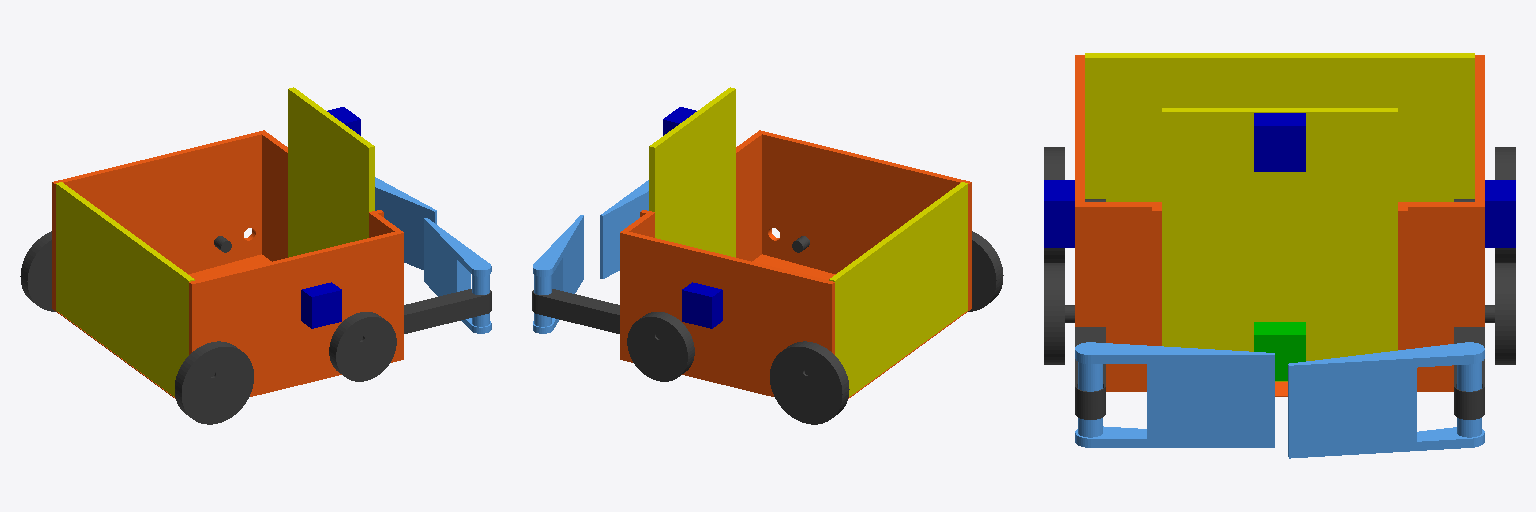
robot.urdf — bot1:
<?xml version="1.0" encoding="utf-8"?>

<robot
  name="bot1">

  <material name="black">
    <color rgba="0.0 0.0 0.0 1.0"/>
  </material>

  <material name="blue">
    <color rgba="0.0 0.0 0.8 1.0"/>
  </material>

  <material name="green">
    <color rgba="0.0 0.8 0.0 1.0"/>
  </material>

  <material name="grey">
    <color rgba="0.3 0.3 0.3 1.0"/>
  </material>

  <material name="orange">
    <color rgba="1 0.4 0.1 1"/>
  </material>

  <material name="red">
    <color rgba="0.8 0.0 0.0 1.0"/>
  </material>

  <material name="white">
    <color rgba="1.0 1.0 1.0 1.0"/>
  </material>

  <material name="yellow">
    <color rgba="0.9 0.9 0 1.0"/>
  </material>

  <material name="cyan">
    <color rgba="0.4 0.7 1 1.0"/>
  </material>

  <link
    name="base_link">
    <inertial>
      <origin
        xyz="0.045732 0.09332 1.1107E-16"
        rpy="0 0 0" />
      <mass
        value="2.0304" />
      <inertia
        ixx="0.072006"
        ixy="-0.00042676"
        ixz="-3.7413E-17"
        iyy="0.092836"
        iyz="-5.2298E-18"
        izz="0.036075" />
    </inertial>
    <visual>
      <origin
        xyz="0 0 0"
        rpy="0 0 0" />
      <geometry>
        <mesh
          filename="package://bot1/meshes/base_link.STL" />
      </geometry>
      <material
        name="orange">
      </material>
    </visual>
    <collision>
      <origin
        xyz="0 0 0"
        rpy="0 0 0" />
      <geometry>
        <mesh
          filename="package://bot1/meshes/base_link.STL" />
      </geometry>
    </collision>
  </link>
  <link
    name="B">
    <inertial>
      <origin
        xyz="0.005 0.1 2.2811E-17"
        rpy="0 0 0" />
      <mass
        value="0.76" />
      <inertia
        ixx="0.011679"
        ixy="1.0729E-20"
        ixz="1.7754E-20"
        iyy="0.0091517"
        iyz="1.7658E-19"
        izz="0.0025397" />
    </inertial>
    <visual>
      <origin
        xyz="0.175 0 0"
        rpy="0 0 0" />
      <geometry>
        <mesh
          filename="package://bot1/meshes/B.STL" />
      </geometry>
      <material
        name="yellow">
      </material>
    </visual>
    <collision>
      <origin
        xyz="0.175 0 0"
        rpy="0 0 0" />
      <geometry>
        <mesh
          filename="package://bot1/meshes/B.STL" />
      </geometry>
    </collision>
  </link>
  <joint
    name="BJ"
    type="prismatic">
    <origin
      xyz="-0.175 0 0.001"
      rpy="1.5708 0 0" />
    <parent
      link="base_link" />
    <child
      link="B" />
    <axis
      xyz="0 -1 0" />
    <limit
      lower="-0.15"
      upper="0"
      effort="10"
      velocity="0.1" />
    <!--safety_controller
      k_velocity="0" /-->
  </joint>
  <link
    name="FRW">
    <inertial>
      <origin
        xyz="-2.7756E-17 -3.7636E-05 -0.048156"
        rpy="0 0 0" />
      <mass
        value="0.16694" />
      <inertia
        ixx="0.00011342"
        ixy="0"
        ixz="2.647E-21"
        iyy="0.00011354"
        iyz="-6.1853E-08"
        izz="0.00019663" />
    </inertial>
    <visual>
      <origin
        xyz="0 0 0"
        rpy="0 0 0" />
      <geometry>
        <mesh
          filename="package://bot1/meshes/FRW.STL" />
      </geometry>
      <material
        name="grey">
      </material>
    </visual>
    <collision>
      <origin
        xyz="0 0 0"
        rpy="0 0 0" />
      <geometry>
        <mesh
          filename="package://bot1/meshes/FRW.STL" />
      </geometry>
    </collision>
  </link>
  <joint
    name="FRWJ"
    type="continuous">
    <origin
      xyz="0.095 -0.17 0.047"
      rpy="1.5707963267949 0.39309481042652 -3.14159265358979" />
    <parent
      link="base_link" />
    <child
      link="FRW" />
    <axis
      xyz="0 0 1" />
    <!--safety_controller
      k_velocity="0" /-->
  </joint>
  <link
    name="RRW">
    <inertial>
      <origin
        xyz="0 -3.7636E-05 -0.048156"
        rpy="0 0 0" />
      <mass
        value="0.16694" />
      <inertia
        ixx="0.00011342"
        ixy="1.0164E-20"
        ixz="2.6933E-21"
        iyy="0.00011354"
        iyz="-6.1853E-08"
        izz="0.00019663" />
    </inertial>
    <visual>
      <origin
        xyz="0 0 0"
        rpy="0 0 0" />
      <geometry>
        <mesh
          filename="package://bot1/meshes/RRW.STL" />
      </geometry>
      <material
        name="grey">
      </material>
    </visual>
    <collision>
      <origin
        xyz="0 0 0"
        rpy="0 0 0" />
      <geometry>
        <mesh
          filename="package://bot1/meshes/RRW.STL" />
      </geometry>
    </collision>
  </link>
  <joint
    name="RRWJ"
    type="continuous">
    <origin
      xyz="-0.065 -0.17 0.047"
      rpy="1.5707963267949 0.393094810426521 -3.14159265358979" />
    <parent
      link="base_link" />
    <child
      link="RRW" />
    <axis
      xyz="0 0 1" />
    <!--safety_controller
      k_velocity="0" /-->
  </joint>
  <link
    name="FLW">
    <inertial>
      <origin
        xyz="1.3878E-17 -3.7636E-05 -0.048156"
        rpy="0 0 0" />
      <mass
        value="0.16694" />
      <inertia
        ixx="0.00011342"
        ixy="-3.1238E-22"
        ixz="-9.8323E-22"
        iyy="0.00011354"
        iyz="-6.1853E-08"
        izz="0.00019663" />
    </inertial>
    <visual>
      <origin
        xyz="0 0 0"
        rpy="0 0 0" />
      <geometry>
        <mesh
          filename="package://bot1/meshes/FLW.STL" />
      </geometry>
      <material
        name="grey">
      </material>
    </visual>
    <collision>
      <origin
        xyz="0 0 0"
        rpy="0 0 0" />
      <geometry>
        <mesh
          filename="package://bot1/meshes/FLW.STL" />
      </geometry>
    </collision>
  </link>
  <joint
    name="FLWJ"
    type="continuous">
    <origin
      xyz="0.095 0.17 0.047"
      rpy="1.5707963267949 0 0" />
    <parent
      link="base_link" />
    <child
      link="FLW" />
    <axis
      xyz="0 0 -1" />
    <!--safety_controller
      k_velocity="0" /-->
  </joint>
  <link
    name="RLW">
    <inertial>
      <origin
        xyz="0 -3.7636E-05 -0.048156"
        rpy="0 0 0" />
      <mass
        value="0.16694" />
      <inertia
        ixx="0.00011342"
        ixy="-2.065E-22"
        ixz="-9.8323E-22"
        iyy="0.00011354"
        iyz="-6.1853E-08"
        izz="0.00019663" />
    </inertial>
    <visual>
      <origin
        xyz="0 0 0"
        rpy="0 0 0" />
      <geometry>
        <mesh
          filename="package://bot1/meshes/RLW.STL" />
      </geometry>
      <material
        name="grey">
      </material>
    </visual>
    <collision>
      <origin
        xyz="0 0 0"
        rpy="0 0 0" />
      <geometry>
        <mesh
          filename="package://bot1/meshes/RLW.STL" />
      </geometry>
    </collision>
  </link>
  <joint
    name="RLWJ"
    type="continuous">
    <origin
      xyz="-0.065 0.17 0.047"
      rpy="1.5707963267949 0 0" />
    <parent
      link="base_link" />
    <child
      link="RLW" />
    <axis
      xyz="0 0 -1" />
    <!--safety_controller
      k_velocity="0" /-->
  </joint>
  <link
    name="RC">
    <inertial>
      <origin
        xyz="0.015 0 0"
        rpy="0 0 0" />
      <mass
        value="0.075" />
      <inertia
        ixx="3.125E-05"
        ixy="-1.6263E-22"
        ixz="4.2352E-22"
        iyy="2.125E-05"
        iyz="-1.0334E-21"
        izz="2.125E-05" />
    </inertial>
    <visual>
      <origin
        xyz="0 0 0"
        rpy="0 0 0" />
      <geometry>
        <mesh
          filename="package://bot1/meshes/RC.STL" />
      </geometry>
      <material
        name="blue">
      </material>
    </visual>
    <collision>
      <origin
        xyz="0 0 0"
        rpy="0 0 0" />
      <geometry>
        <mesh
          filename="package://bot1/meshes/RC.STL" />
      </geometry>
    </collision>
  </link>
  <joint
    name="RCJ"
    type="fixed">
    <origin
      xyz="0.03 -0.23 0.125"
      rpy="1.5707963267949 0 1.5707963267949" />
    <parent
      link="base_link" />
    <child
      link="RC" />
    <axis
      xyz="0 0 0" />
    <safety_controller
      k_velocity="0" />
  </joint>
  <link
    name="LC">
    <inertial>
      <origin
        xyz="0.015 0 0"
        rpy="0 0 0" />
      <mass
        value="0.075" />
      <inertia
        ixx="3.125E-05"
        ixy="1.6263E-22"
        ixz="-4.2352E-22"
        iyy="2.125E-05"
        iyz="-1.0334E-21"
        izz="2.125E-05" />
    </inertial>
    <visual>
      <origin
        xyz="0 0 0"
        rpy="0 0 0" />
      <geometry>
        <mesh
          filename="package://bot1/meshes/LC.STL" />
      </geometry>
      <material
        name="blue">
      </material>
    </visual>
    <collision>
      <origin
        xyz="0 0 0"
        rpy="0 0 0" />
      <geometry>
        <mesh
          filename="package://bot1/meshes/LC.STL" />
      </geometry>
    </collision>
  </link>
  <joint
    name="LCJ"
    type="fixed">
    <origin
      xyz="0.03 0.23 0.125"
      rpy="-1.5707963267949 0 -1.5707963267949" />
    <parent
      link="base_link" />
    <child
      link="LC" />
    <axis
      xyz="0 0 0" />
    <safety_controller
      k_velocity="0" />
  </joint>
  <link
    name="RA">
    <inertial>
      <origin
        xyz="0.064226 0 0"
        rpy="0 0 0" />
      <mass
        value="0.11493" />
      <inertia
        ixx="1.7546E-05"
        ixy="1.3293E-21"
        ixz="-5.3917E-21"
        iyy="0.0001712"
        iyz="-2.9655E-21"
        izz="0.00017089" />
    </inertial>
    <visual>
      <origin
        xyz="0 0 0"
        rpy="0 0 0" />
      <geometry>
        <mesh
          filename="package://bot1/meshes/RA.STL" />
      </geometry>
      <material
        name="grey">
      </material>
    </visual>
    <collision>
      <origin
        xyz="0 0 0"
        rpy="0 0 0" />
      <geometry>
        <mesh
          filename="package://bot1/meshes/RA.STL" />
      </geometry>
    </collision>
  </link>
  <joint
    name="RAJ"
    type="fixed">
    <origin
      xyz="0.175 -0.185 0.055"
      rpy="1.5707963267949 0 0" />
    <parent
      link="base_link" />
    <child
      link="RA" />
    <axis
      xyz="0 0 0" />
    <safety_controller
      k_velocity="0" />
  </joint>
  <link
    name="RF">
    <inertial>
      <origin
        xyz="0.075327 1.3878E-17 0.0052437"
        rpy="0 0 0" />
      <mass
        value="0.24614" />
      <inertia
        ixx="0.00024699"
        ixy="1.1698E-20"
        ixz="-4.7172E-05"
        iyy="0.00069522"
        iyz="3.0415E-20"
        izz="0.00092098" />
    </inertial>
    <visual>
      <origin
        xyz="-0.31 -0.05 -0.185"
        rpy="0 0 0" />
      <geometry>
        <mesh
          filename="package://bot1/meshes/RF.STL" />
      </geometry>
      <material
        name="cyan">
      </material>
    </visual>
    <collision>
      <origin
        xyz="-0.31 -0.05 -0.185"
        rpy="0 0 0" />
      <geometry>
        <mesh
          filename="package://bot1/meshes/RF.STL" />
      </geometry>
    </collision>
  </link>
  <joint
    name="RFJ"
    type="revolute">
    <origin
      xyz="0.135 0 0"
      rpy="0 0.7854 0" />
    <parent
      link="RA" />
    <child
      link="RF" />
    <axis
      xyz="0 1 0" />
    <limit
      lower="-1.5"
      upper="0.2"
      effort="100"
      velocity="0.125" />
    <!--safety_controller
      k_velocity="0" /-->
  </joint>
  <link
    name="LA">
    <inertial>
      <origin
        xyz="0.064226 0 0"
        rpy="0 0 0" />
      <mass
        value="0.11493" />
      <inertia
        ixx="1.7546E-05"
        ixy="5.6286E-21"
        ixz="2.0529E-21"
        iyy="0.0001712"
        iyz="-2.9655E-21"
        izz="0.00017089" />
    </inertial>
    <visual>
      <origin
        xyz="-0.175 -0.055 0.185"
        rpy="0 0 0" />
      <geometry>
        <mesh
          filename="package://bot1/meshes/LA.STL" />
      </geometry>
      <material
        name="grey">
      </material>
    </visual>
    <collision>
      <origin
        xyz="-0.175 -0.055 0.185"
        rpy="0 0 0" />
      <geometry>
        <mesh
          filename="package://bot1/meshes/LA.STL" />
      </geometry>
    </collision>
  </link>
  <joint
    name="LAJ"
    type="fixed">
    <origin
      xyz="0.175 0.185 0.055"
      rpy="1.5708 0 0" />
    <parent
      link="base_link" />
    <child
      link="LA" />
    <axis
      xyz="0 0 0" />
    <safety_controller
      k_velocity="0" />
  </joint>
  <link
    name="LF">
    <inertial>
      <origin
        xyz="0.075327 6.9389E-18 0.0052437"
        rpy="0 0 0" />
      <mass
        value="0.24614" />
      <inertia
        ixx="0.00024699"
        ixy="2.2224E-20"
        ixz="-4.7172E-05"
        iyy="0.00069522"
        iyz="-1.3368E-20"
        izz="0.00092098" />
    </inertial>
    <visual>
      <origin
        xyz="-0.31 -0.05 0.185"
        rpy="0 0 0" />
      <geometry>
        <mesh
          filename="package://bot1/meshes/LF.STL" />
      </geometry>
      <material
        name="cyan">
      </material>
    </visual>
    <collision>
      <origin
        xyz="-0.31 -0.05 0.185"
        rpy="0 0 0" />
      <geometry>
        <mesh
          filename="package://bot1/meshes/LF.STL" />
      </geometry>
    </collision>
  </link>
  <joint
    name="LFJ"
    type="revolute">
    <origin
      xyz="0.135 0 0"
      rpy="0 -0.64739 0" />
    <parent
      link="LA" />
    <child
      link="LF" />
    <axis
      xyz="0 1 0" />
    <limit
      lower="-0.34"
      upper="1.36"
      effort="100"
      velocity="0.125" />
    <!--safety_controller
      k_velocity="0" /-->
  </joint>
  <link
    name="F">
    <inertial>
      <origin
        xyz="0 0 0"
        rpy="0 0 0" />
      <mass
        value="0" />
      <inertia
        ixx="0"
        ixy="0"
        ixz="0"
        iyy="0"
        iyz="0"
        izz="0" />
    </inertial>
    <visual>
      <origin
        xyz="-0.165 0 0"
        rpy="0 0 0" />
      <geometry>
        <mesh
          filename="package://bot1/meshes/F.STL" />
      </geometry>
      <material
        name="yellow">
      </material>
    </visual>
    <collision>
      <origin
        xyz="0 0 0"
        rpy="0 0 0" />
      <geometry>
        <mesh
          filename="package://bot1/meshes/F.STL" />
      </geometry>
    </collision>
  </link>
  <joint
    name="FJ"
    type="prismatic">
    <origin
      xyz="0.165 0 0.001"
      rpy="1.5708 0 0" />
    <parent
      link="base_link" />
    <child
      link="F" />
    <axis
      xyz="0 -1 0" />
    <limit
      lower="-0.18"
      upper="0"
      effort="10"
      velocity="0.1" />
    <!--safety_controller
      k_velocity="0" /-->
  </joint>
  <link
    name="FC">
    <inertial>
      <origin
        xyz="0.015 0 1.3105E-16"
        rpy="0 0 0" />
      <mass
        value="0.075" />
      <inertia
        ixx="3.125E-05"
        ixy="5.4323E-22"
        ixz="-2.4651E-36"
        iyy="2.125E-05"
        iyz="-1.8149E-21"
        izz="2.125E-05" />
    </inertial>
    <visual>
      <origin
        xyz="0 0 0"
        rpy="0 0 0" />
      <geometry>
        <mesh
          filename="package://bot1/meshes/FC.STL" />
      </geometry>
      <material
        name="blue">
      </material>
    </visual>
    <collision>
      <origin
        xyz="0 0 0"
        rpy="0 0 0" />
      <geometry>
        <mesh
          filename="package://bot1/meshes/FC.STL" />
      </geometry>
    </collision>
  </link>
  <joint
    name="FCJ"
    type="fixed">
    <origin
      xyz="0.01 0.275 0"
      rpy="0 0 0" />
    <parent
      link="F" />
    <child
      link="FC" />
    <axis
      xyz="0 0 0" />
    <!--safety_controller
      k_velocity="0" /-->
  </joint>
  <link
    name="L">
    <inertial>
      <origin
        xyz="0.025 1.3878E-17 1.1371E-16"
        rpy="0 0 0" />
      <mass
        value="0.075" />
      <inertia
        ixx="3.125E-05"
        ixy="2.5429E-36"
        ixz="-5.8031E-37"
        iyy="2.125E-05"
        iyz="-2.9499E-21"
        izz="2.125E-05" />
    </inertial>
    <visual>
      <origin
        xyz="0 0 0"
        rpy="0 0 0" />
      <geometry>
        <mesh
          filename="package://bot1/meshes/L.STL" />
      </geometry>
      <material
        name="green">
      </material>
    </visual>
    <collision>
      <origin
        xyz="0 0 0"
        rpy="0 0 0" />
      <geometry>
        <mesh
          filename="package://bot1/meshes/L.STL" />
      </geometry>
    </collision>
  </link>
  <joint
    name="LJ"
    type="fixed">
    <origin
      xyz="0 0.05 0"
      rpy="0 0 0" />
    <parent
      link="F" />
    <child
      link="L" />
    <axis
      xyz="0 0 0" />
    <!--safety_controller
      k_velocity="0" /-->
  </joint>
  
  <!--LiDAR-->
  <link name="hokuyo_link">
    <collision>
      <origin xyz="0 0 0" rpy="0 0 0"/>
      <geometry>
    <box size="0.1 0.1 0.1"/>
      </geometry>
    </collision>

    <visual>
      <origin xyz="0 0 0" rpy="0 0 0"/>
      <geometry>
        <mesh filename="package://bot1/meshes/hokuyo.dae"/>
      </geometry>
    </visual>

    <inertial>
      <mass value="1e-5" />
      <origin xyz="0 0 0" rpy="0 0 0"/>
      <inertia ixx="1e-6" ixy="0" ixz="0" iyy="1e-6" iyz="0" izz="1e-6" />
    </inertial>
  </link>

  <joint name="hokuyo_joint" type="fixed">
    <origin
      xyz="0.04 0.05 0"
      rpy="-1.57 0 0" />
    <parent
      link="F" />
	<child link="hokuyo_link"/>
    <axis
      xyz="0 1 0" />
    <!-- <safety_controller
      k_velocity="0" /> -->
  </joint>

   <gazebo reference="hokuyo_link">
    <sensor type="ray" name="head_hokuyo_sensor">
      <pose>0 0 0 0 0 0</pose>
      <visualize>true</visualize>
      <update_rate>40</update_rate>
      <ray>
        <scan>
          <horizontal>
            <samples>21</samples>
            <resolution>1</resolution>
            <min_angle>-0.000001</min_angle>
            <max_angle>0.000001</max_angle>
          </horizontal>
        </scan>
        <range>
          <min>0.20</min>
          <max>3.0</max>
          <resolution>0.01</resolution>
        </range>
        <noise>
          <type>gaussian</type>
          <!-- Noise parameters based on published spec for Hokuyo laser
               achieving "+-30mm" accuracy at range < 10m.  A mean of 0.0m and
               stddev of 0.01m will put 99.7% of samples within 0.03m of the true
               reading. -->
          <mean>0.0</mean>
          <stddev>0.01</stddev>
        </noise>
      </ray>
      <plugin name="gazebo_ros_head_hokuyo_controller" filename="libgazebo_ros_laser.so">
        <topicName>/umic_bot/laser/scan</topicName>
        <frameName>hokuyo_link</frameName>
      </plugin>
    </sensor>
  </gazebo>


  <!--Physical parameters-->
    <gazebo reference="FLW">
      <mu1 value="200.0"/>
      <mu2 value="100.0"/>
      <kp value="10000000.0" />
      <kd value="1.0" />
    </gazebo>  

    <gazebo reference="FLW">
      <mu1 value="200.0"/>
      <mu2 value="100.0"/>
      <kp value="10000000.0" />
      <kd value="1.0" />
    </gazebo>  

    <gazebo reference="FLW">
      <mu1 value="200.0"/>
      <mu2 value="100.0"/>
      <kp value="10000000.0" />
      <kd value="1.0" />
    </gazebo>  

    <gazebo reference="FLW">
      <mu1 value="200.0"/>
      <mu2 value="100.0"/>
      <kp value="10000000.0" />
      <kd value="1.0" />
    </gazebo>  

  <!--Differential_Transmissions-->
    <transmission name="FLW_trans">
      <type>transmission_interface/SimpleTransmission</type>
      <actuator name="FLW_wheel_motor">
        <mechanicalReduction>1</mechanicalReduction>
      </actuator>
      <joint name="FLWJ">
        <hardwareInterface>VelocityJointInterface</hardwareInterface>
      </joint>
    </transmission>

    <transmission name="FRW_trans">
      <type>transmission_interface/SimpleTransmission</type>
      <actuator name="FRW_wheel_motor">
        <mechanicalReduction>1</mechanicalReduction>
      </actuator>
      <joint name="FRWJ">
        <hardwareInterface>VelocityJointInterface</hardwareInterface>
      </joint>
    </transmission>

    <transmission name="RLW_trans">
      <type>transmission_interface/SimpleTransmission</type>
      <actuator name="RLW_wheel_motor">
        <mechanicalReduction>1</mechanicalReduction>
      </actuator>
      <joint name="RLWJ">
        <hardwareInterface>VelocityJointInterface</hardwareInterface>
      </joint>
    </transmission>

    <transmission name="RRW_trans">
      <type>transmission_interface/SimpleTransmission</type>
      <actuator name="RRW_wheel_motor">
        <mechanicalReduction>1</mechanicalReduction>
      </actuator>
      <joint name="RRWJ">
        <hardwareInterface>VelocityJointInterface</hardwareInterface>
      </joint>
    </transmission>

  <!--Gates_Transmission-->
    <transmission name="Front_Gate_Trans" type="SimpleTransmission">
      <type>transmission_interface/SimpleTransmission</type>
      <actuator name="Front_Gate_motor">
        <mechanicalReduction>1</mechanicalReduction>
      </actuator>
      <joint name="FJ">
        <hardwareInterface>EffortJointInterface</hardwareInterface>
      </joint>
    </transmission>

    <transmission name="Back_Gate_Trans" type="SimpleTransmission">
      <type>transmission_interface/SimpleTransmission</type>
      <actuator name="Back_Gate_Motor">
        <mechanicalReduction>1</mechanicalReduction>
      </actuator>
      <joint name="BJ">
        <hardwareInterface>EffortJointInterface</hardwareInterface>
      </joint>
    </transmission>

  <!--Flaps Transmission-->
    <transmission name="left_flap_Trans" type="SimpleTransmission">
      <type>transmission_interface/SimpleTransmission</type>
      <actuator name="left_flap_motor">
        <mechanicalReduction>1</mechanicalReduction>
      </actuator>
      <joint name="LFJ">
        <hardwareInterface>EffortJointInterface</hardwareInterface>
      </joint>
    </transmission>

    <transmission name="right_flap_Trans" type="SimpleTransmission">
      <type>transmission_interface/SimpleTransmission</type>
      <actuator name="right_flap_motor">
        <mechanicalReduction>1</mechanicalReduction>
      </actuator>
      <joint name="RFJ">
        <hardwareInterface>EffortJointInterface</hardwareInterface>
      </joint>
    </transmission>
   
  <!-- Gazebo plugin for ROS Control -->
   <gazebo>
     <plugin name="gazebo_ros_control" filename="libgazebo_ros_control.so">
     </plugin>
   </gazebo>

</robot>

--- Facts derived from the render (not from the file) ---
Views: 3 orthographic renders of the robot side by side, from view 1: azimuth 30°, elevation 25°; view 2: azimuth 150°, elevation 25°; view 3: azimuth 270°, elevation 25°.
Robot: bot1 — 16 links, 15 joints (2 revolute, 4 continuous, 2 prismatic, 7 fixed); root link base_link; default pose: all joints at 0.
Links seen in each view (by area): view 1: base_link, B, F, RRW, RF, FRW, LF, RA, RLW, RC; view 2: base_link, B, F, RLW, FLW, LF, LA, RF, RRW, LC; view 3: F, B, base_link, LF, RF, FC, FRW, FLW, L, RC, LC, LA (+3 smaller).
Boxes of the visible links, bbox=[...] form: base_link: bbox=[52, 130, 403, 398]; B: bbox=[56, 182, 194, 396]; F: bbox=[288, 87, 374, 257]; RRW: bbox=[175, 341, 253, 424]; RF: bbox=[424, 218, 491, 333]; FRW: bbox=[329, 312, 396, 381]; LF: bbox=[375, 177, 436, 269]; RA: bbox=[404, 289, 491, 333]; RLW: bbox=[20, 231, 55, 311]; RC: bbox=[301, 282, 341, 328]; base_link: bbox=[620, 130, 971, 398]; B: bbox=[829, 182, 967, 396]; F: bbox=[649, 87, 735, 257]; RLW: bbox=[770, 341, 849, 424]; FLW: bbox=[627, 312, 694, 381]; LF: bbox=[533, 215, 583, 333]; LA: bbox=[532, 289, 619, 333]; RF: bbox=[600, 180, 648, 278]; RRW: bbox=[968, 231, 1003, 311]; LC: bbox=[682, 282, 722, 328]; F: bbox=[1162, 108, 1397, 381]; B: bbox=[1085, 53, 1474, 201]; base_link: bbox=[1075, 55, 1484, 396]; LF: bbox=[1288, 342, 1484, 458]; RF: bbox=[1075, 342, 1274, 447]; FC: bbox=[1254, 113, 1305, 171]; FRW: bbox=[1044, 263, 1074, 364]; FLW: bbox=[1485, 263, 1515, 364]; L: bbox=[1254, 322, 1305, 380]; RC: bbox=[1044, 180, 1074, 247]; LC: bbox=[1485, 180, 1515, 247]; LA: bbox=[1454, 327, 1484, 419].
Bounding box of the posed robot: 0.5594 × 0.46 × 0.315 m (x, y, z).
Meshes: 16 distinct files referenced, 15 mesh visuals loaded (15 binary STL); not drawn: 1 (reference not matched to a file when rendering).
